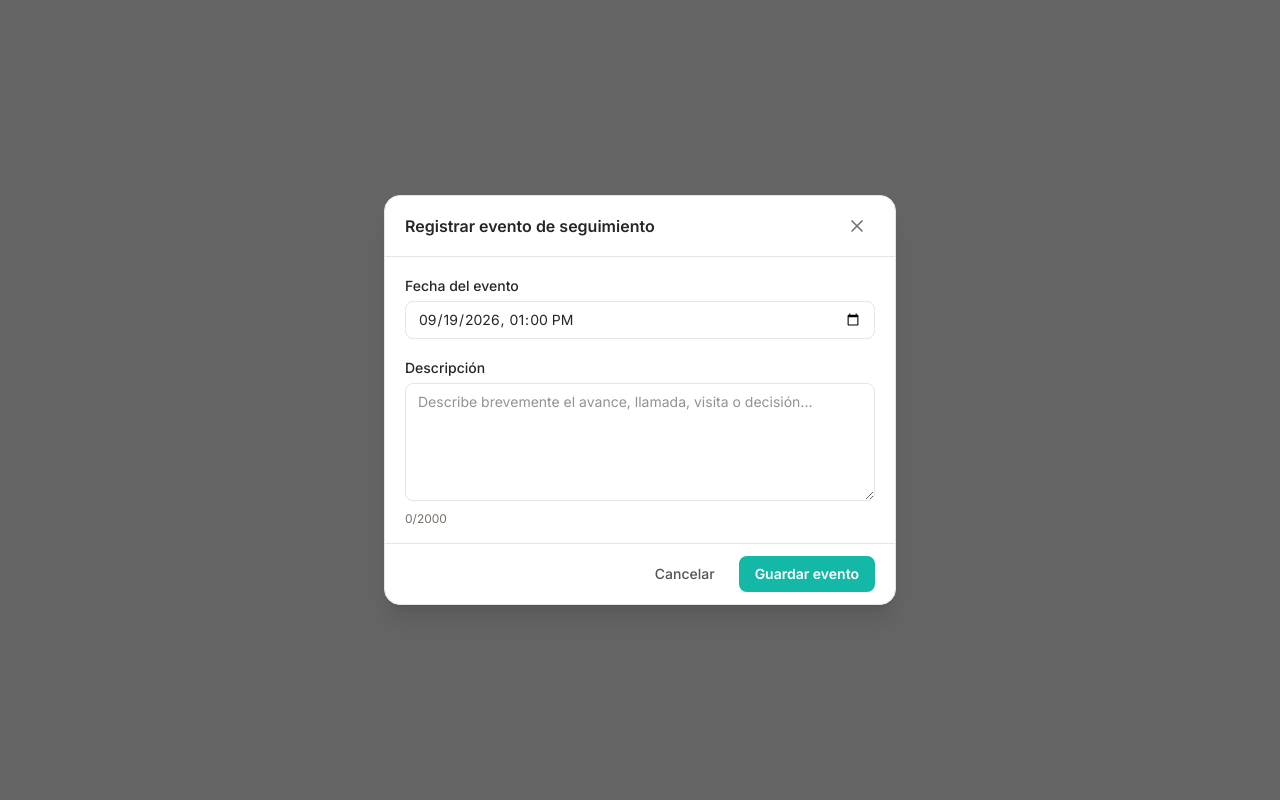
AdoptionEventCreateModal › flattens field errors from a rejected submission
This screenshot has width=1280, height=800.
Type "x" into the text box with test id "event-description-input" at (640, 442), box [405,383,875,501]
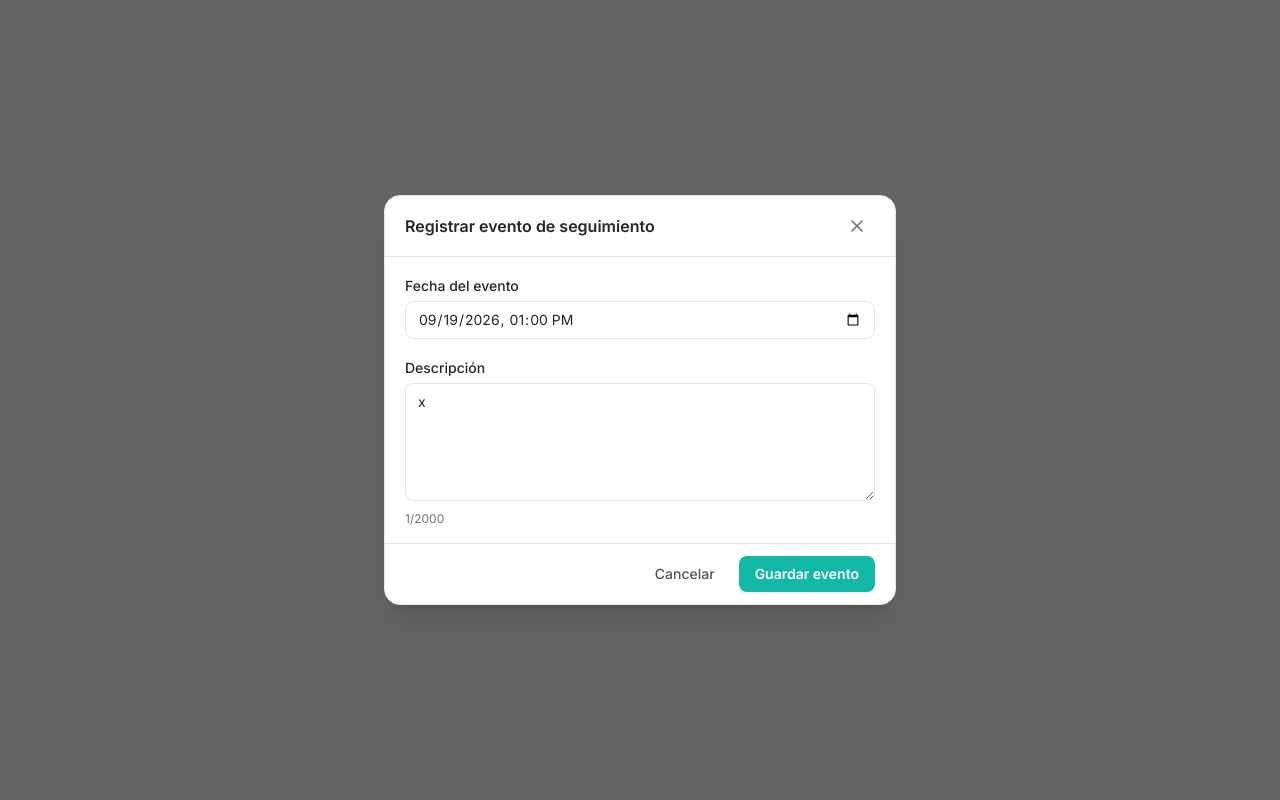
Click the button with test id "event-submit" at (807, 574), box [739,556,875,592]
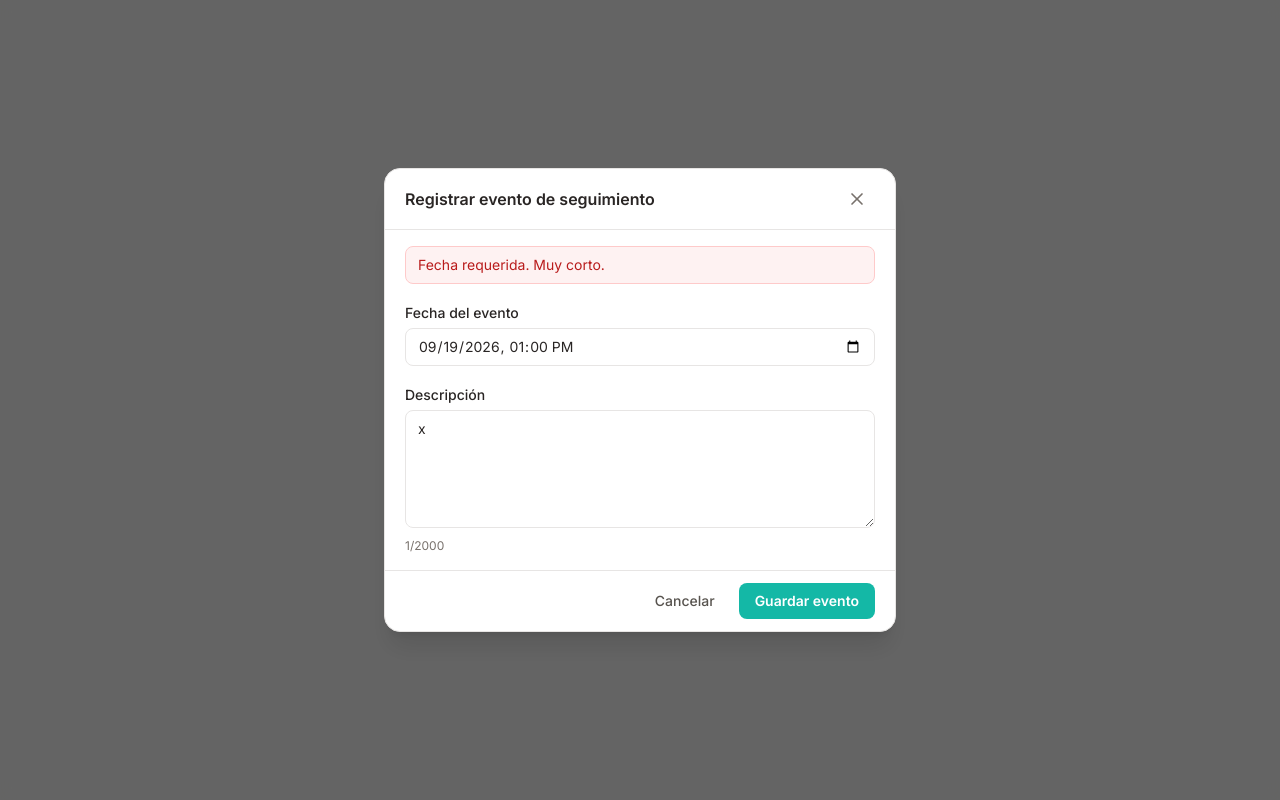
Expected: the text "Fecha requerida. Muy corto." is shown, [405,246,875,284]
